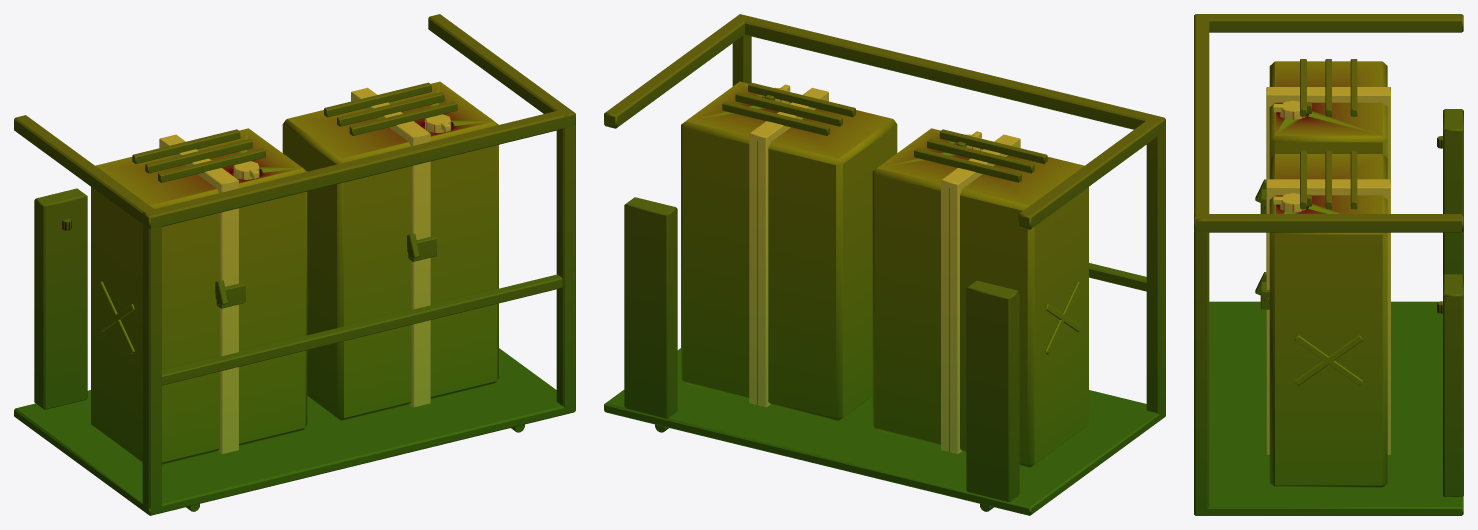
The model's file is RCLModule_salvage_hauler_hazard_industrial_fueldrums.fbx.
3 renders of one model, left to right at view 1: azimuth 30°, elevation 25°; view 2: azimuth 150°, elevation 25°; view 3: azimuth 270°, elevation 25°, orthographic.
Parts seen in each view (by area): view 1: RCLModule_salvage_hauler_hazard_industrial_fueldrums_Batch_R (×3); view 2: RCLModule_salvage_hauler_hazard_industrial_fueldrums_Batch_R (×3); view 3: RCLModule_salvage_hauler_hazard_industrial_fueldrums_Batch_R (×3).
Boxes of the visible parts, bbox=[...] form: RCLModule_salvage_hauler_hazard_industrial_fueldrums_Batch_R (×3): bbox=[14, 14, 575, 515]; RCLModule_salvage_hauler_hazard_industrial_fueldrums_Batch_R (×3): bbox=[604, 14, 1165, 515]; RCLModule_salvage_hauler_hazard_industrial_fueldrums_Batch_R (×3): bbox=[1194, 14, 1463, 515].
Bounding box in the file's own units: 58 × 40.4 × 32.05.
